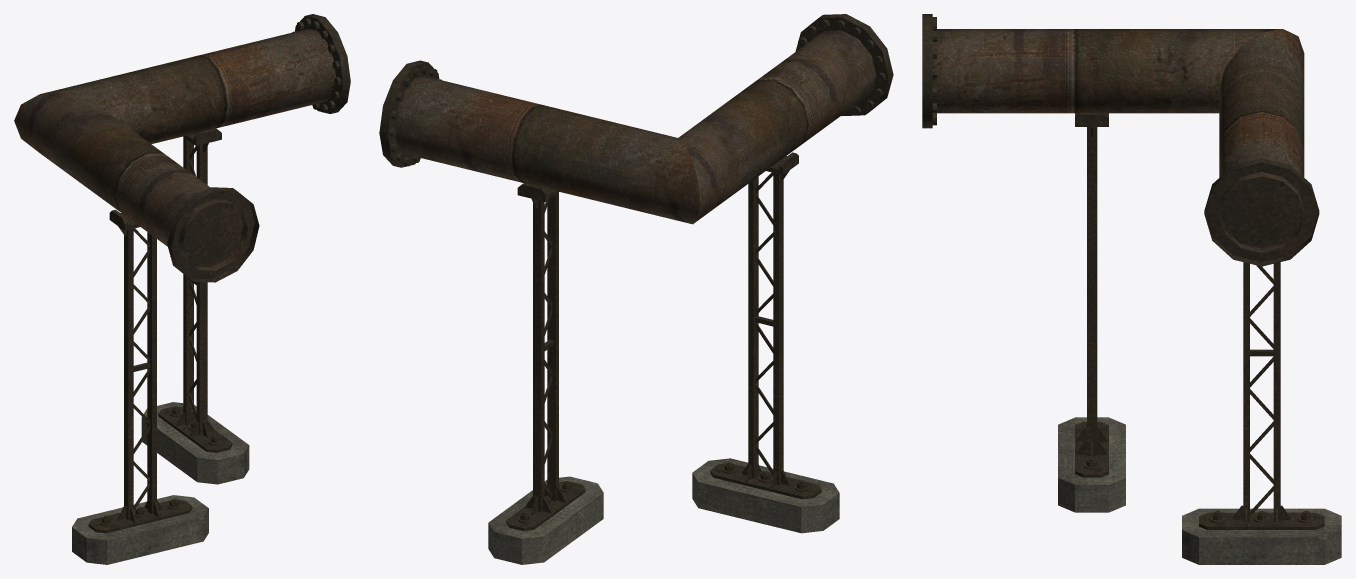
File: pipe_cx_3.obj
3 renders of one model, left to right at view 1: azimuth 30°, elevation 25°; view 2: azimuth 150°, elevation 25°; view 3: azimuth 270°, elevation 25°, orthographic. The views are drawn at different scales.
Visible parts, largest first — view 1: pipe_cx_3; view 2: pipe_cx_3; view 3: pipe_cx_3.
Part boxes in pixels (x1,y1,x2,y2): pipe_cx_3: (14, 14, 350, 564); pipe_cx_3: (379, 14, 893, 564); pipe_cx_3: (922, 14, 1341, 564).
Bounding box in the file's own units: 2.47 × 2.99 × 2.47.
